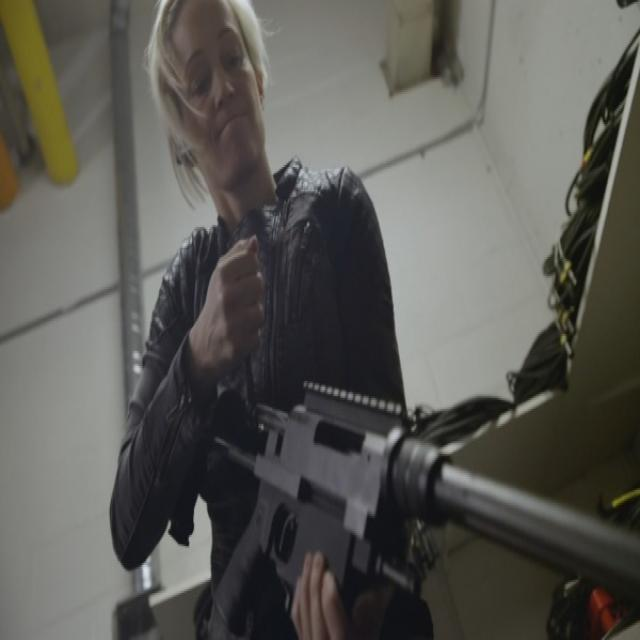rifle: (209, 399, 640, 635)
